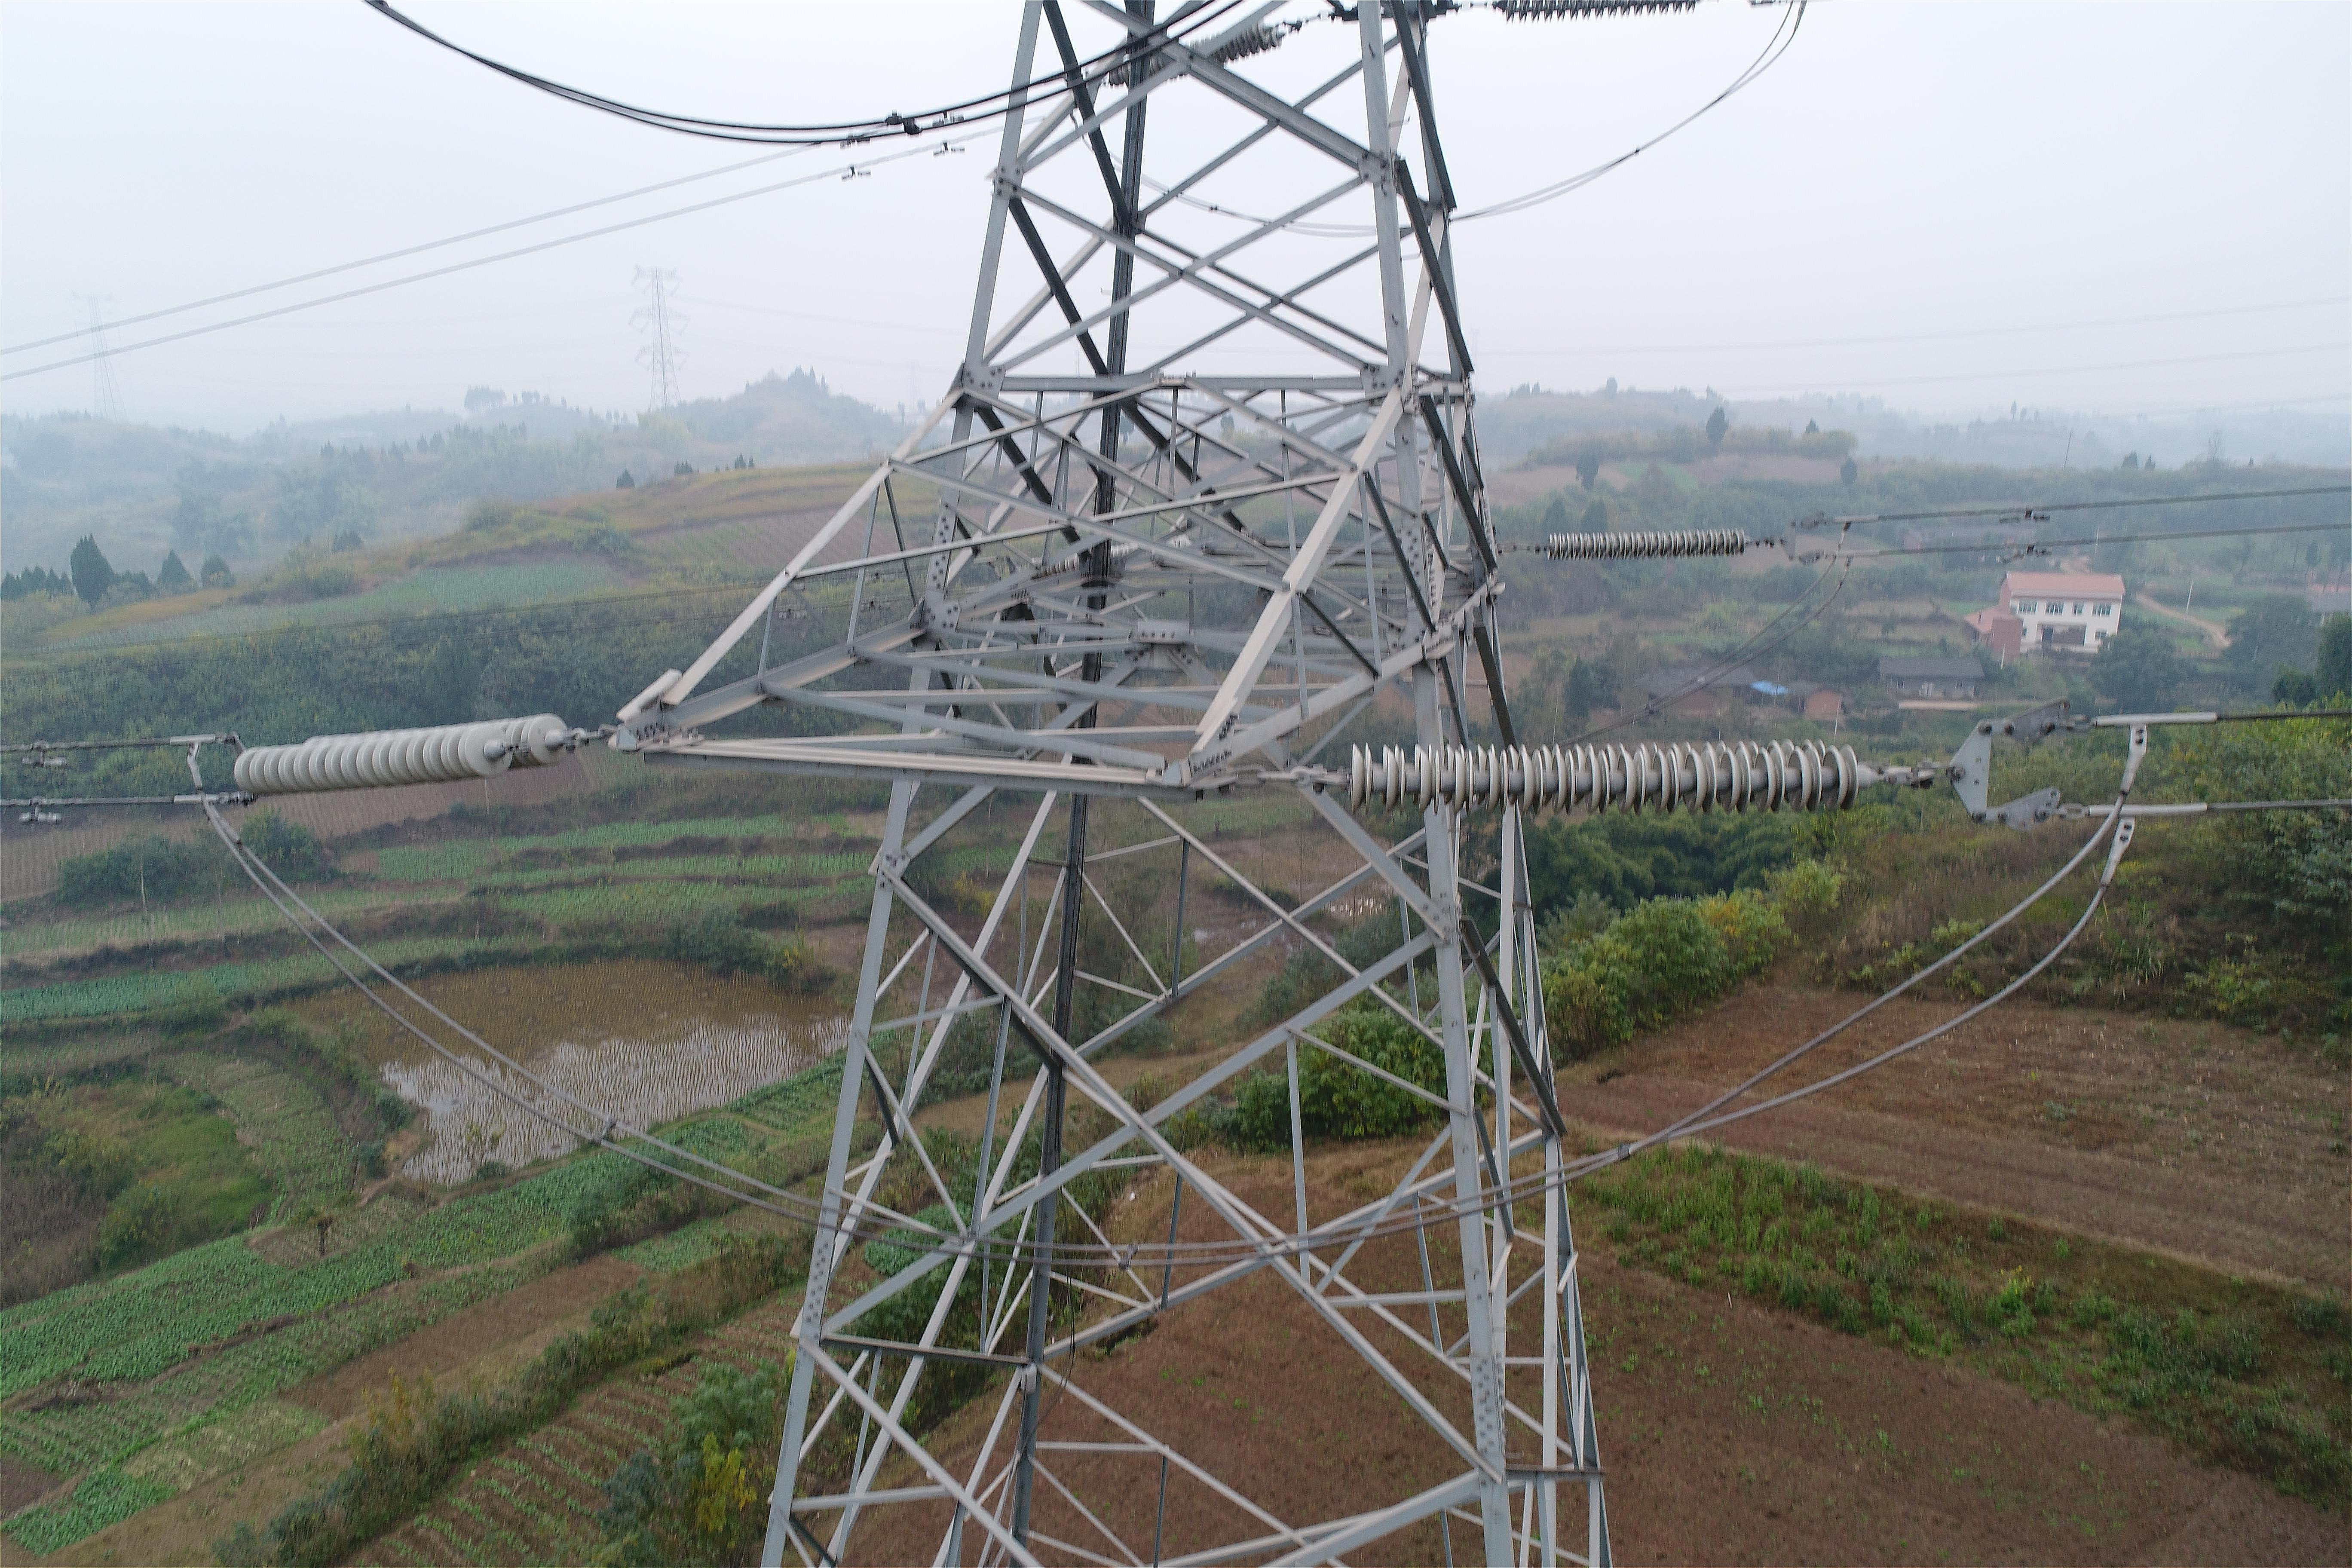insultor4: (1328, 695, 1832, 808), (248, 675, 553, 787), (1545, 521, 1736, 553)
